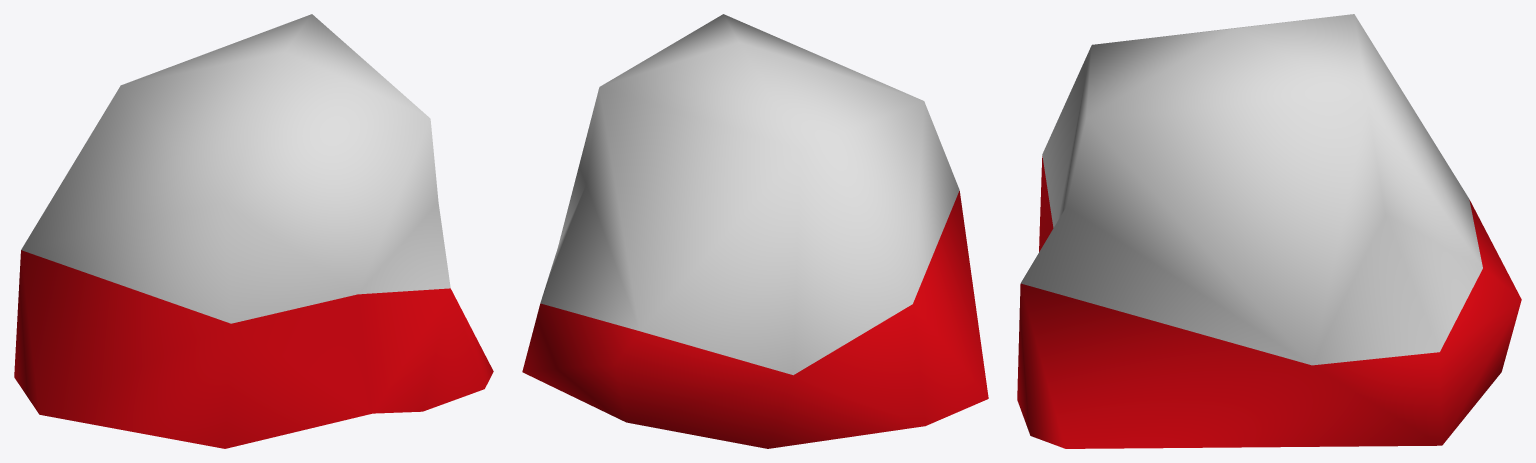
Rendered from plate2.glb.
3 renders of one model, left to right at view 1: azimuth 30°, elevation 25°; view 2: azimuth 150°, elevation 25°; view 3: azimuth 270°, elevation 25°, orthographic. The views are drawn at different scales.
Visible parts, largest first — view 1: plate2; view 2: plate2; view 3: plate2.
Boxes of the visible parts, left/top/right/bottom form: plate2: left=14, top=14, right=493, bottom=448; plate2: left=522, top=14, right=988, bottom=448; plate2: left=1017, top=14, right=1521, bottom=448.
Size of the model in its own units: 27.83 by 20.08 by 26.44.
